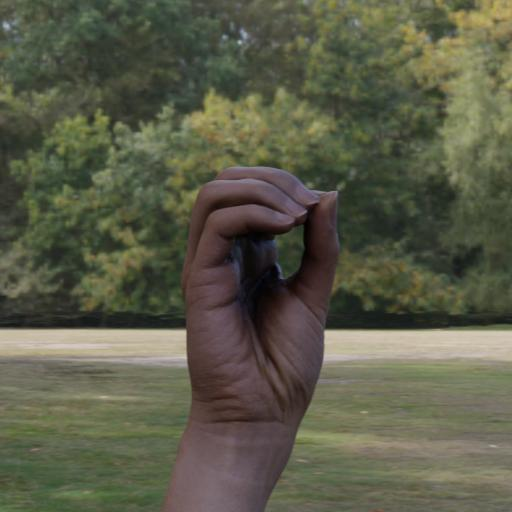O: (181, 156, 351, 427)
